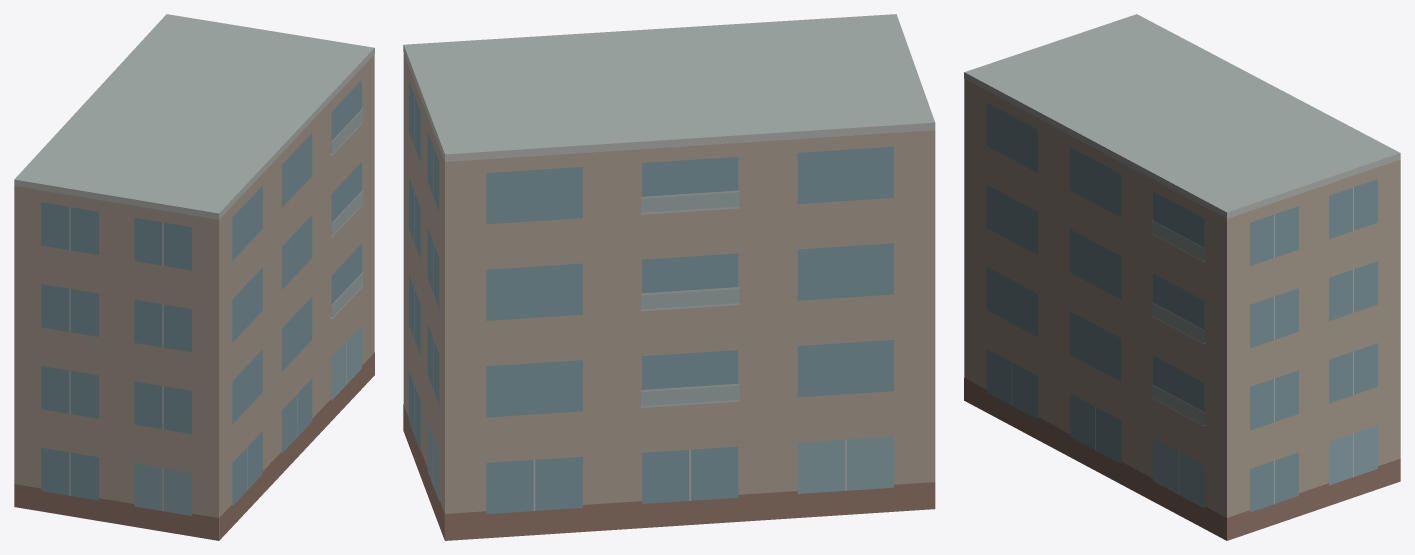
Rendered from survey-upis-33020421.glb.
3 renders of one model, left to right at view 1: azimuth 30°, elevation 25°; view 2: azimuth 150°, elevation 25°; view 3: azimuth 270°, elevation 25°, orthographic. The views are drawn at different scales.
Parts seen in each view (by area): view 1: survey-upis-33020421.tmp; view 2: survey-upis-33020421.tmp; view 3: survey-upis-33020421.tmp.
Part boxes in pixels (x1,y1,x2,y2): survey-upis-33020421.tmp: (14,14,374,540); survey-upis-33020421.tmp: (403,14,935,540); survey-upis-33020421.tmp: (964,14,1400,540).
Bounding box in the file's own units: 16.21 × 12.5 × 15.06.
